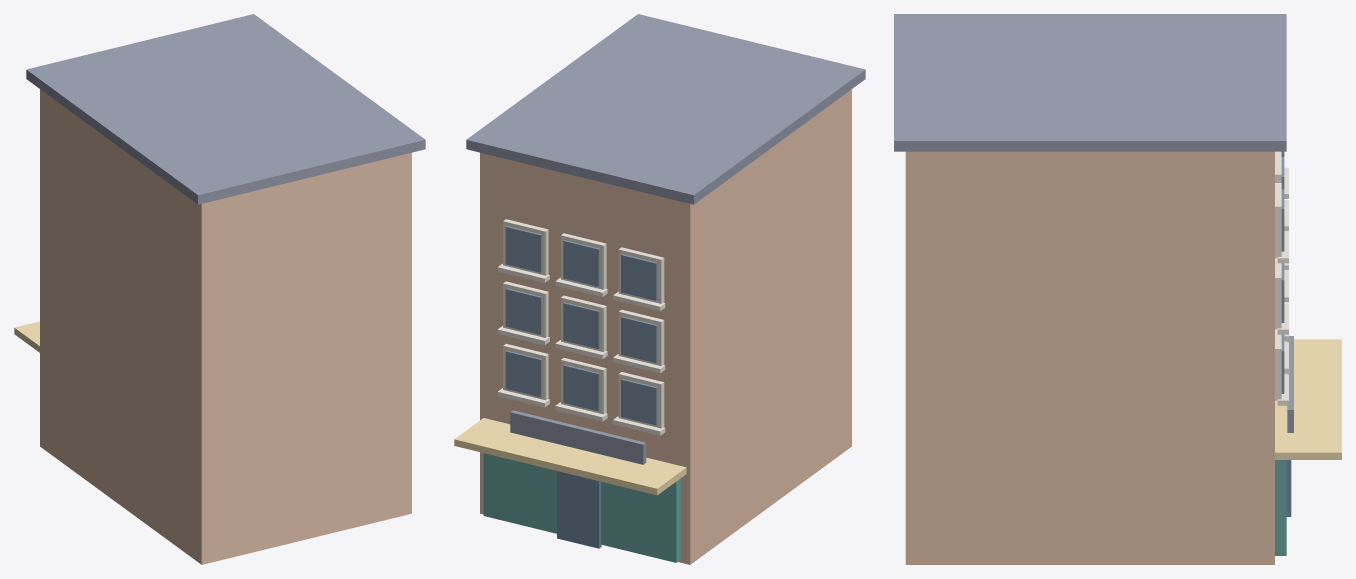
The model's file is building.glb.
3 renders of one model, left to right at view 1: azimuth 30°, elevation 25°; view 2: azimuth 150°, elevation 25°; view 3: azimuth 270°, elevation 25°, orthographic. The views are drawn at different scales.
Visible parts, largest first — view 1: Facade, Roof, Awning; view 2: Facade, Roof, Glass (×9), Shopfront, Frame (×9), Awning, Sign, Door; view 3: Facade, Roof, Awning, Shopfront.
Part boxes in pixels (x1,y1,x2,y2): Facade: (40,89,411,564); Roof: (26,14,425,204); Awning: (14,321,39,352); Facade: (480,89,851,564); Roof: (466,14,865,204); Glass (×9): (505,226,657,425); Shopfront: (483,453,681,562); Frame (×9): (503,219,664,428); Awning: (454,418,686,495); Sign: (510,410,646,464); Door: (557,471,601,548); Facade: (905,151,1274,564); Roof: (894,14,1286,151); Awning: (1275,339,1341,459); Shopfront: (1275,460,1286,555).
Size of the model in its own units: 6.5 by 10.25 by 9.7.
